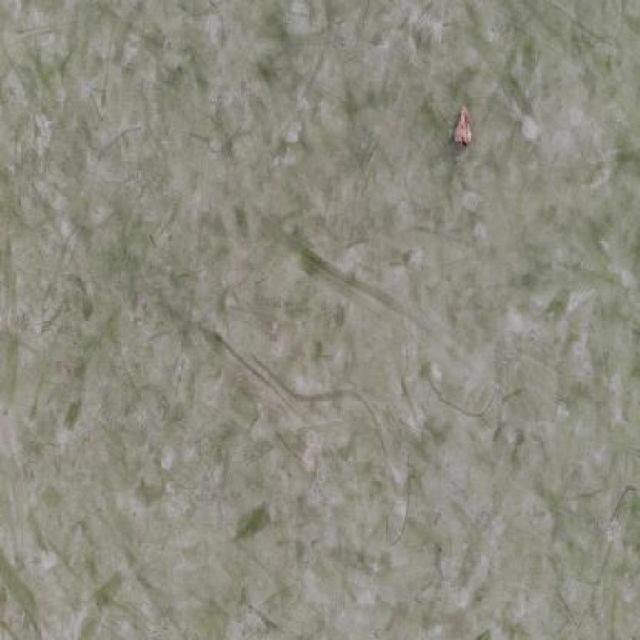Garbage: (454, 106, 472, 154)
